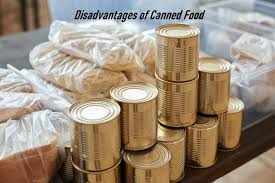can: (67, 24, 244, 183)
